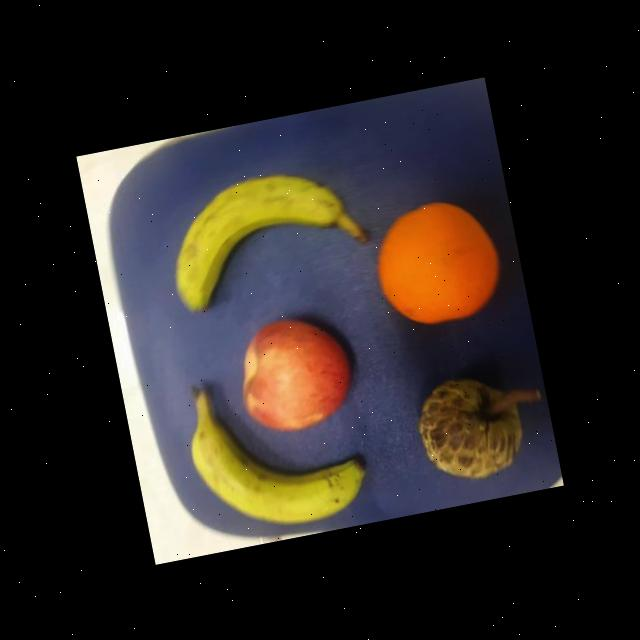Sakya fruit: (410, 362, 530, 492)
apple: (226, 308, 364, 443)
banana: (151, 157, 359, 319), (180, 390, 379, 546)
orange: (360, 188, 510, 334)
